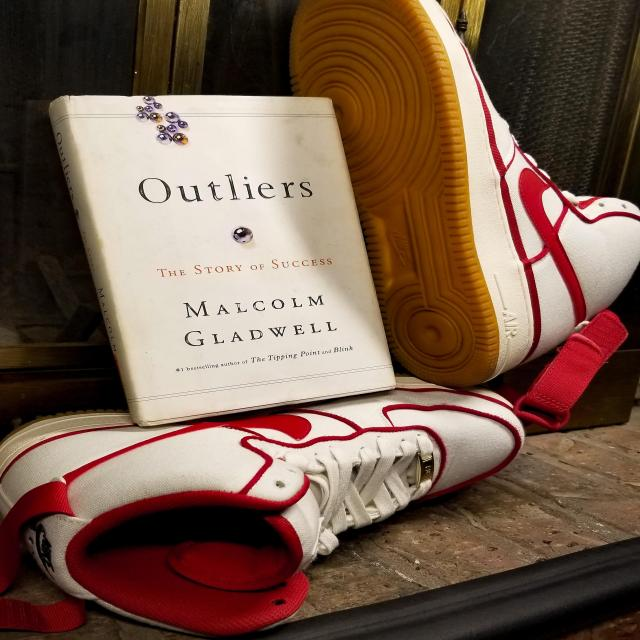shoe: (277, 4, 640, 385), (7, 374, 539, 632)
